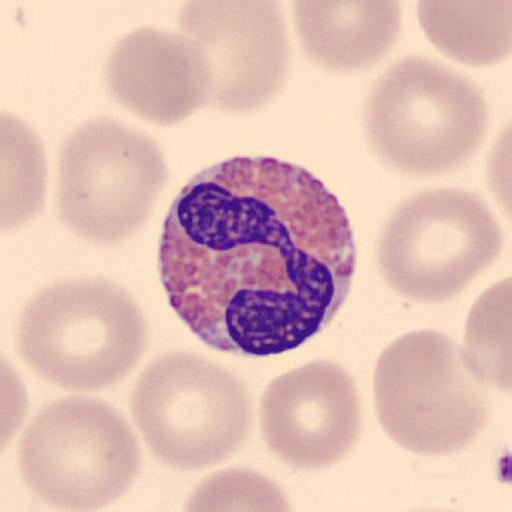RBC: (12, 271, 149, 393), (52, 112, 170, 248), (362, 53, 490, 178), (129, 346, 254, 472), (375, 184, 504, 304), (16, 393, 144, 511), (372, 328, 488, 458), (174, 0, 292, 116), (258, 357, 364, 472), (101, 24, 216, 126), (290, 1, 404, 74), (415, 0, 512, 69), (2, 107, 51, 236), (462, 274, 512, 396), (178, 465, 297, 512), (486, 122, 512, 250), (0, 354, 30, 460)
WBC: (156, 155, 360, 357)
